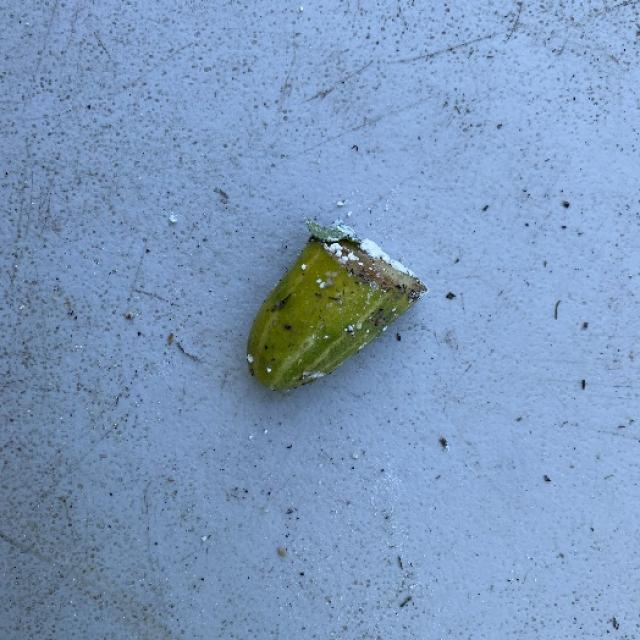organik: (243, 225, 418, 398)
